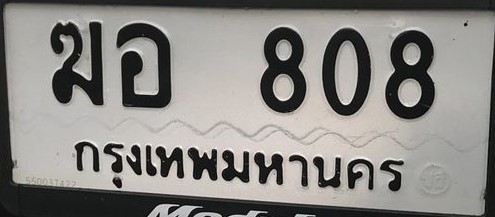txt04: (48, 18, 106, 107)
txt38: (114, 19, 175, 110)
